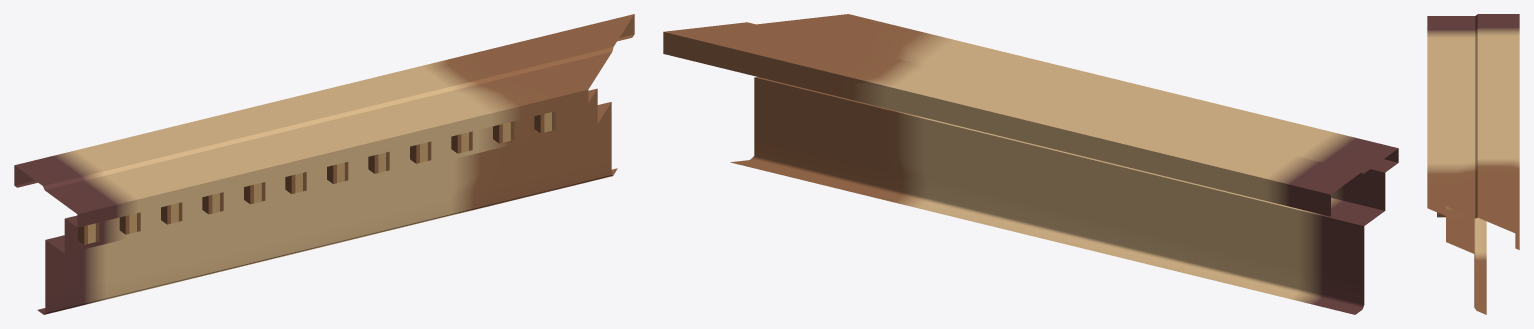
File: DBK_Cornice_A_Full_Inside_Mirror.fbx
The picture shows the model from 3 angles, left to right: view 1: azimuth 30°, elevation 25°; view 2: azimuth 150°, elevation 25°; view 3: azimuth 270°, elevation 25°; orthographic projection. The views are drawn at different scales.
Visible parts, largest first — view 1: DBK_Cornice_A_Full_Inside_Mirror; view 2: DBK_Cornice_A_Full_Inside_Mirror; view 3: DBK_Cornice_A_Full_Inside_Mirror.
Boxes of the visible parts, x1=… form: DBK_Cornice_A_Full_Inside_Mirror: x1=14, y1=14, x2=634, y2=314; DBK_Cornice_A_Full_Inside_Mirror: x1=663, y1=14, x2=1398, y2=314; DBK_Cornice_A_Full_Inside_Mirror: x1=1427, y1=14, x2=1519, y2=314.
Size of the model in its own units: 320 by 63.25 by 56.29.
